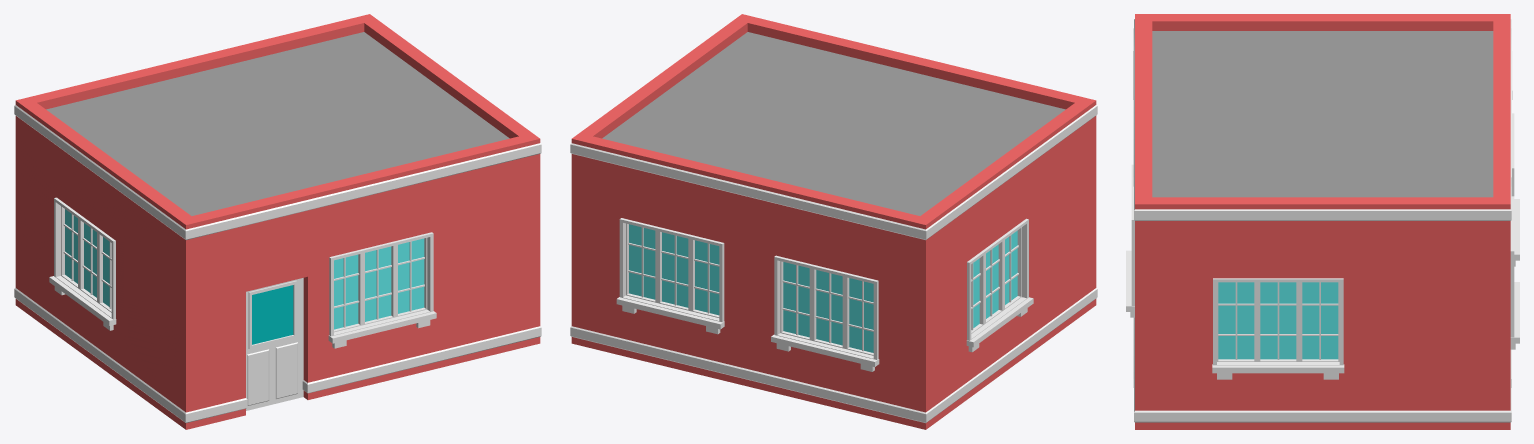
File: SM_House_10_02.FBX
3 views of the same model, side by side, from view 1: azimuth 30°, elevation 25°; view 2: azimuth 150°, elevation 25°; view 3: azimuth 270°, elevation 25° (orthographic). The views are drawn at different scales.
Visible parts, largest first — view 1: SM_House_10_02; view 2: SM_House_10_02; view 3: SM_House_10_02.
Part boxes in pixels (<box>): SM_House_10_02: <box>14,14,541,429</box>; SM_House_10_02: <box>570,14,1097,429</box>; SM_House_10_02: <box>1126,14,1519,429</box>.
Bounding box in the file's own units: 6.23 × 3.32 × 5.25.
Materials: 1 (1 with a texture image).
